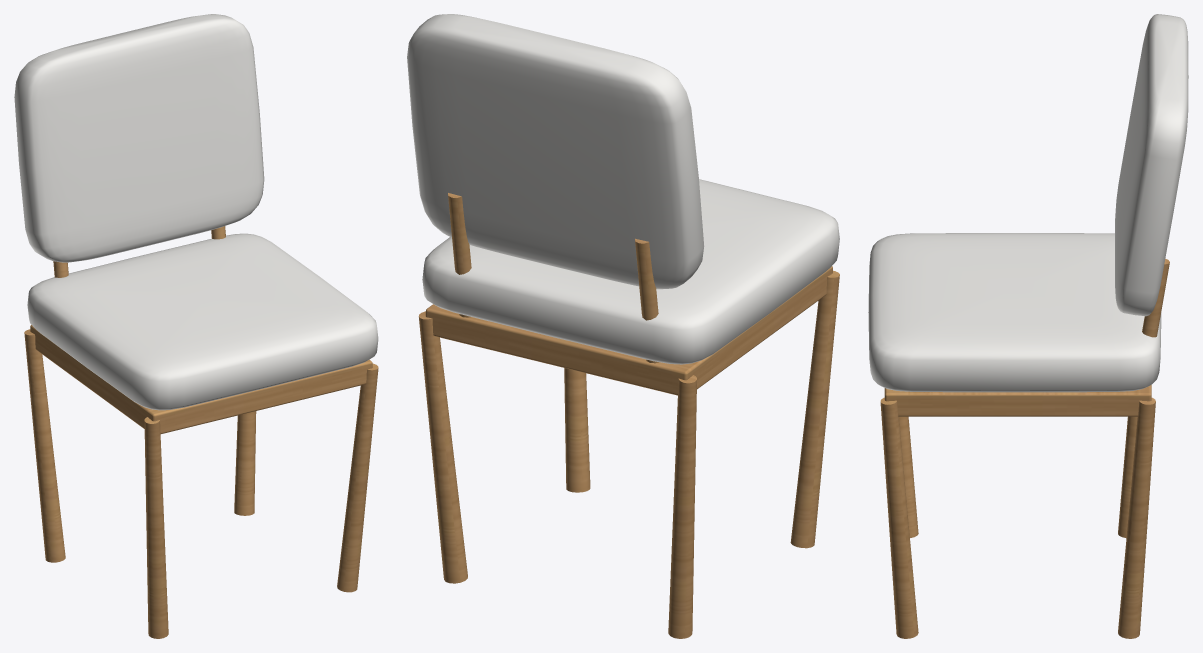
File: chair.glb
3 renders of one model, left to right at view 1: azimuth 30°, elevation 25°; view 2: azimuth 150°, elevation 25°; view 3: azimuth 270°, elevation 25°, orthographic. The views are drawn at different scales.
Visible parts, largest first — view 1: chair_back, chair_seat, chair_legs, chair_frame; view 2: chair_back, chair_seat, chair_legs, chair_frame, chair_back_posts; view 3: chair_seat, chair_back, chair_legs, chair_frame, chair_back_posts.
Part boxes in pixels (left/top/right/bottom): chair_back: left=14, top=14, right=264, bottom=262; chair_seat: left=27, top=233, right=378, bottom=410; chair_legs: left=24, top=329, right=378, bottom=638; chair_frame: left=30, top=325, right=372, bottom=433; chair_back: left=407, top=14, right=704, bottom=289; chair_seat: left=422, top=179, right=839, bottom=364; chair_legs: left=418, top=270, right=839, bottom=638; chair_frame: left=425, top=266, right=832, bottom=395; chair_back_posts: left=448, top=193, right=659, bottom=363; chair_seat: left=868, top=233, right=1161, bottom=392; chair_back: left=1115, top=14, right=1188, bottom=316; chair_legs: left=880, top=397, right=1155, bottom=638; chair_frame: left=884, top=385, right=1151, bottom=416; chair_back_posts: left=1142, top=258, right=1169, bottom=337.
Size of the model in its own units: 0.46 by 0.8916 by 0.4915.
Materials: 2 (1 with a texture image).
